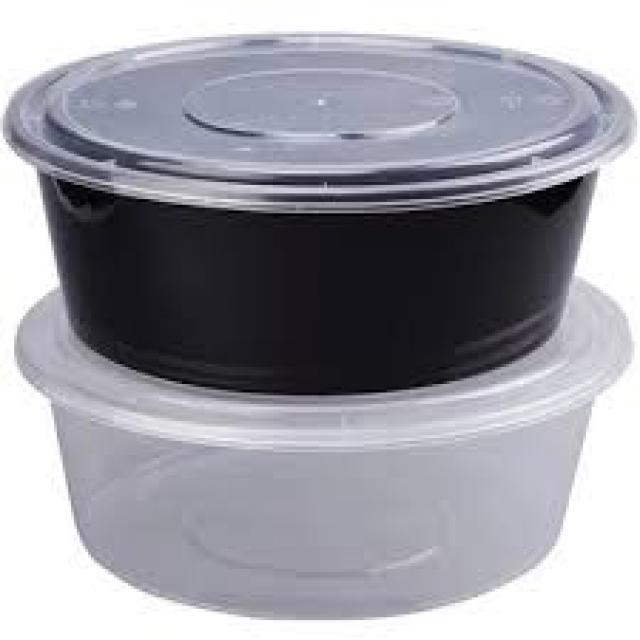disposable: (15, 10, 640, 380), (10, 297, 626, 619)
